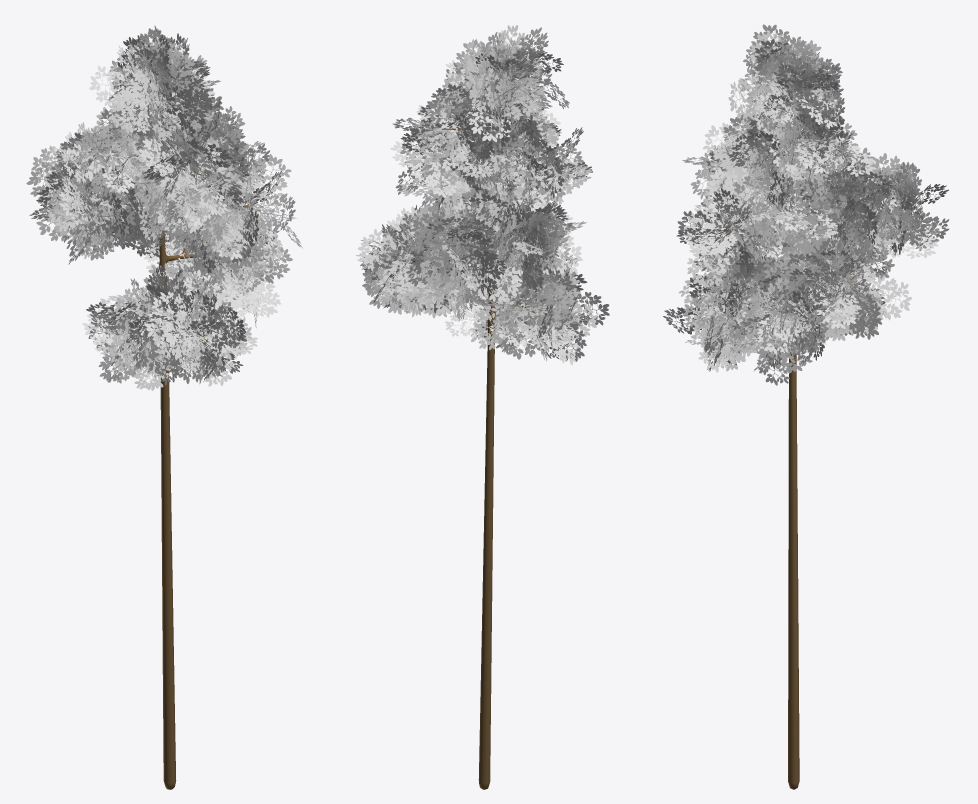
File: Trees_02.fbx
The picture shows the model from 3 angles, left to right: view 1: azimuth 30°, elevation 25°; view 2: azimuth 150°, elevation 25°; view 3: azimuth 270°, elevation 25°; orthographic projection. The views are drawn at different scales.
Visible parts, largest first — view 1: Cube; view 2: Cube; view 3: Cube.
Boxes of the visible parts, x1,y1,x2,y2 form: Cube: [26, 25, 302, 789]; Cube: [356, 25, 609, 789]; Cube: [663, 24, 949, 789].
Bounding box in the file's own units: 1024 × 3103 × 1161.
